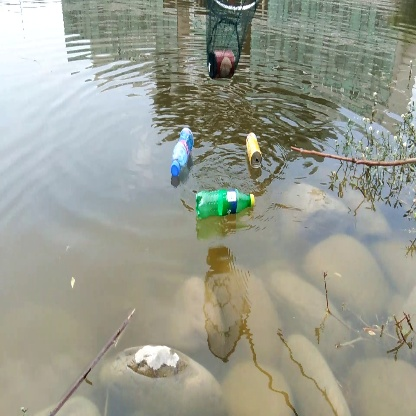bottle: (194, 187, 257, 220), (167, 127, 197, 179), (243, 132, 263, 170)
